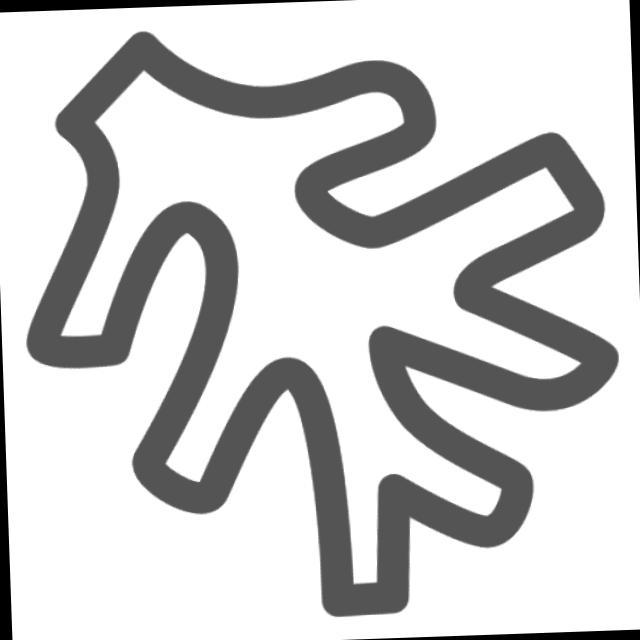coral: (7, 1, 632, 634)
